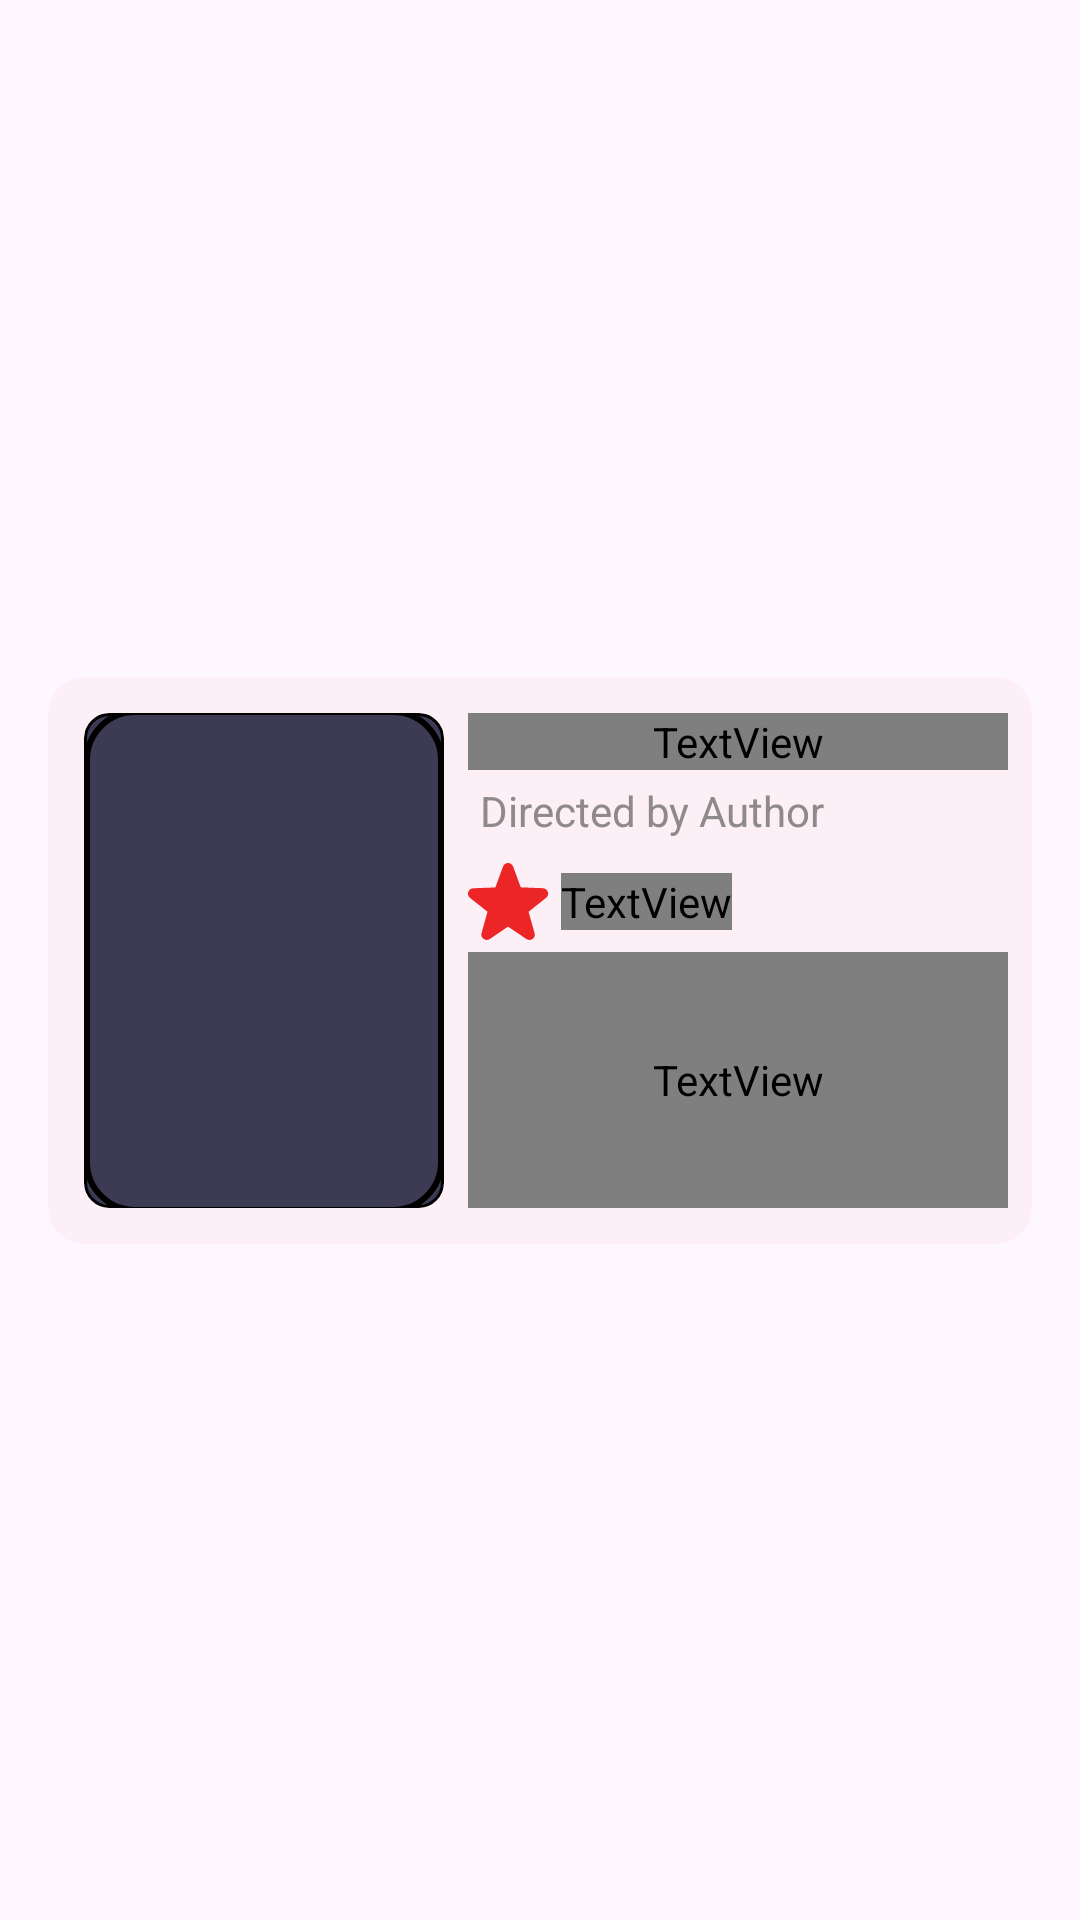

Icons on this 1080px×1920px Android screen, each with its box as [x1,y1,x2,y2]:
vectorstarfilled: [468,863,549,940]
